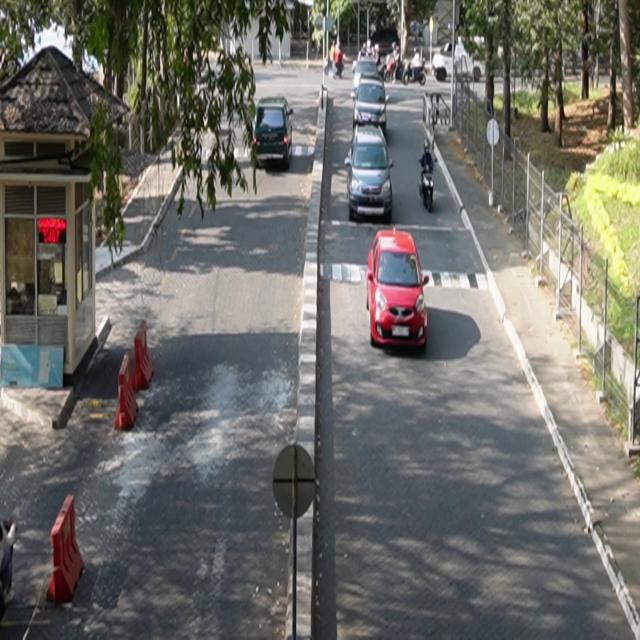car: (367, 227, 430, 350), (345, 124, 395, 223), (253, 96, 294, 170), (354, 78, 390, 136)
